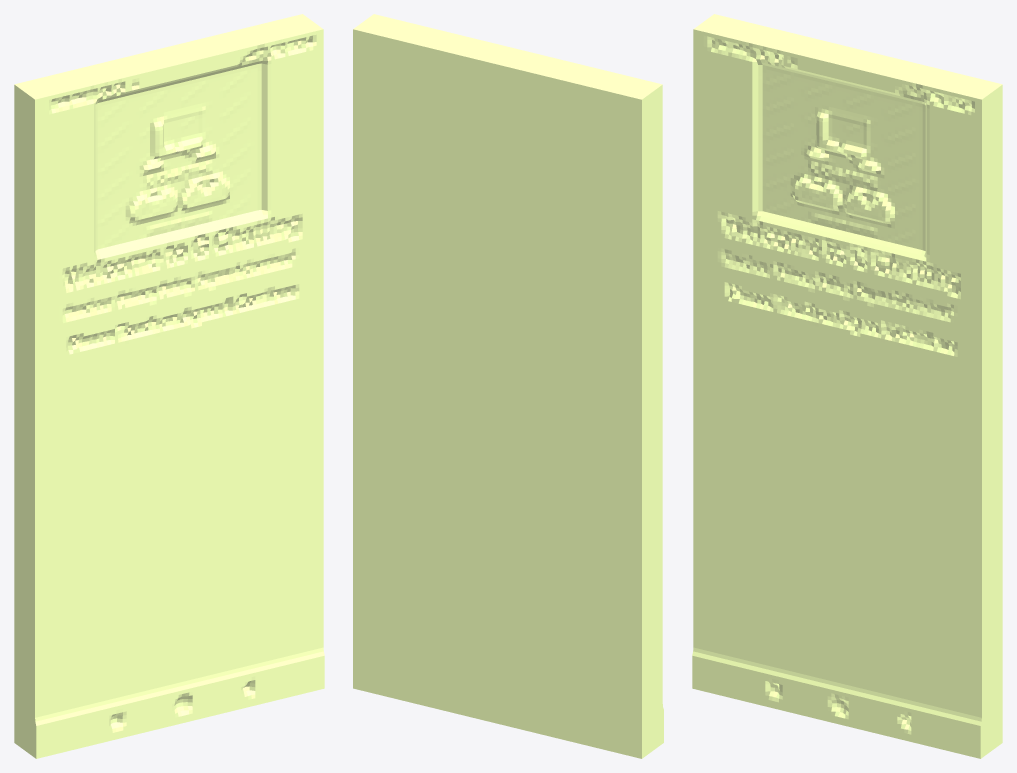
File: chat.glb
The picture shows the model from 3 angles, left to right: view 1: azimuth 30°, elevation 25°; view 2: azimuth 150°, elevation 25°; view 3: azimuth 330°, elevation 25°; orthographic projection.
Parts seen in each view (by area): view 1: imageGenerator_1; view 2: imageGenerator_1; view 3: imageGenerator_1.
Boxes of the visible parts, x1,y1,x2,y2 form: imageGenerator_1: [14, 14, 324, 758]; imageGenerator_1: [353, 14, 663, 758]; imageGenerator_1: [692, 14, 1002, 758].
Bounding box in the file's own units: 182 × 398 × 24.19.
